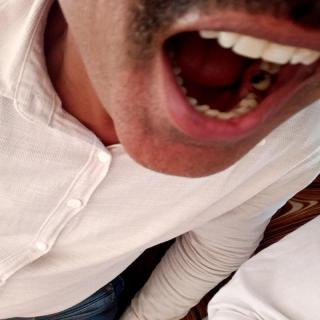cavities: (254, 70, 273, 90)
maligned: (195, 103, 210, 113)
